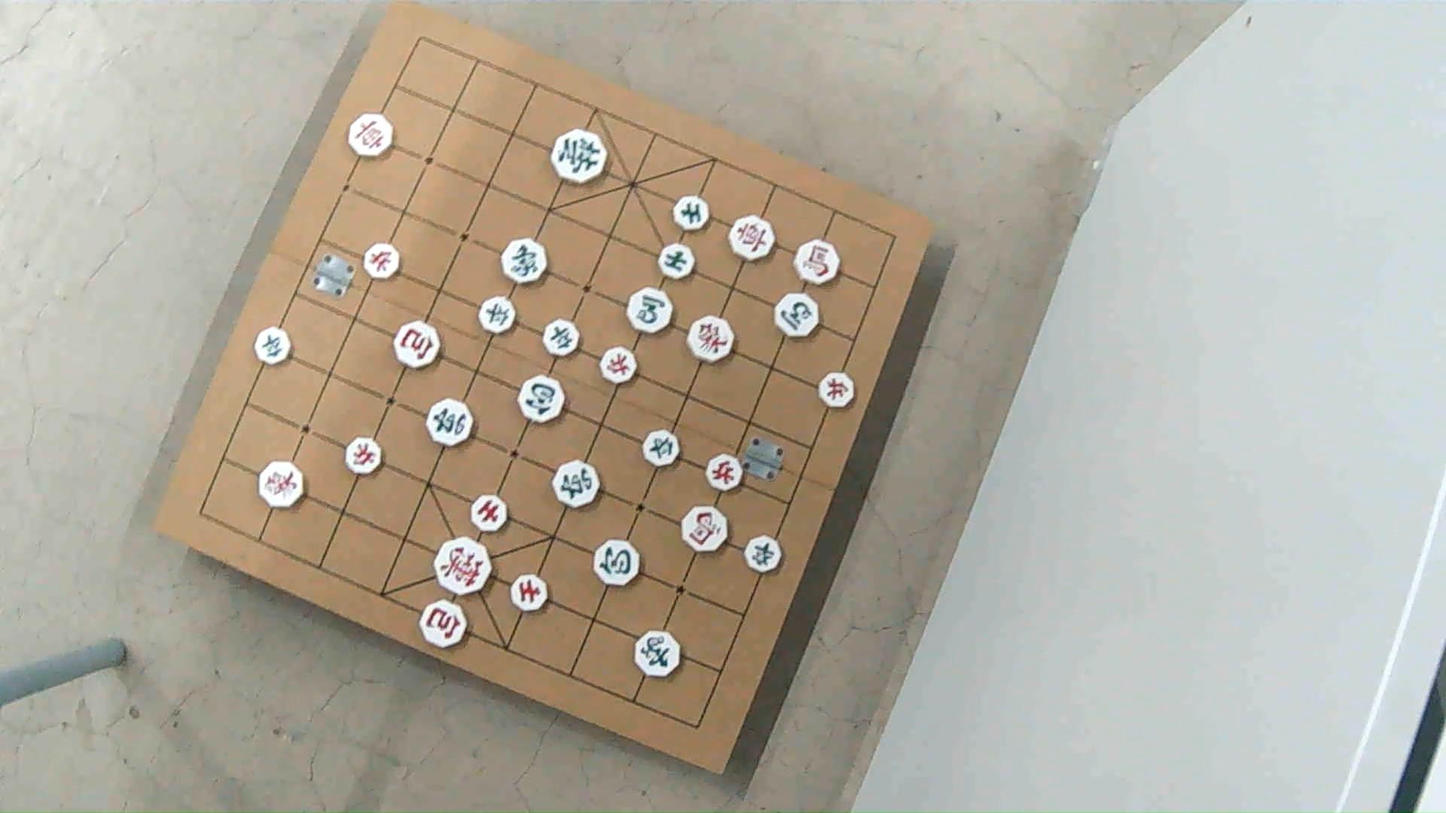cha_green: (552, 462, 599, 509), (426, 399, 472, 446)
cha_red: (730, 215, 775, 260), (350, 115, 395, 157)
jol_green: (541, 321, 579, 358), (642, 431, 679, 468), (254, 328, 291, 365), (747, 535, 785, 571), (480, 296, 516, 333)
jol_red: (343, 437, 380, 475), (818, 373, 855, 409), (365, 242, 401, 279), (601, 346, 636, 382), (706, 455, 741, 491)
ma_green: (627, 288, 673, 333), (774, 294, 819, 336)
ma_red: (684, 508, 731, 553), (795, 242, 840, 285)
po_green: (593, 538, 640, 584), (520, 376, 566, 422)
po_red: (398, 323, 447, 369), (422, 600, 468, 647)
sa_green: (657, 245, 694, 281), (676, 198, 712, 233)
sa_red: (470, 497, 508, 534), (510, 574, 548, 611)
sang_green: (636, 633, 682, 678), (499, 238, 546, 282)
sang_red: (688, 318, 734, 364), (257, 461, 301, 507)
wang_green: (551, 129, 606, 183)
wang_red: (435, 539, 492, 595)
